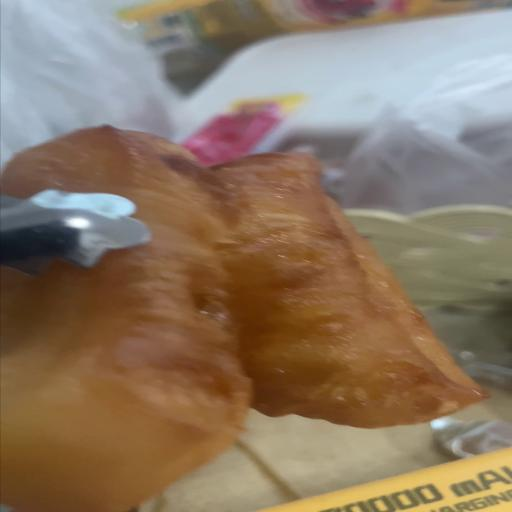street_golden_defect: (0, 125, 478, 505)
